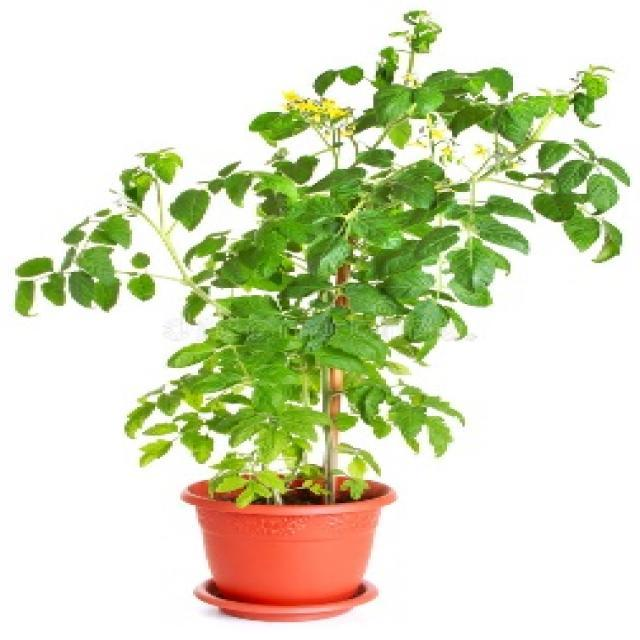plant: (15, 11, 630, 506)
